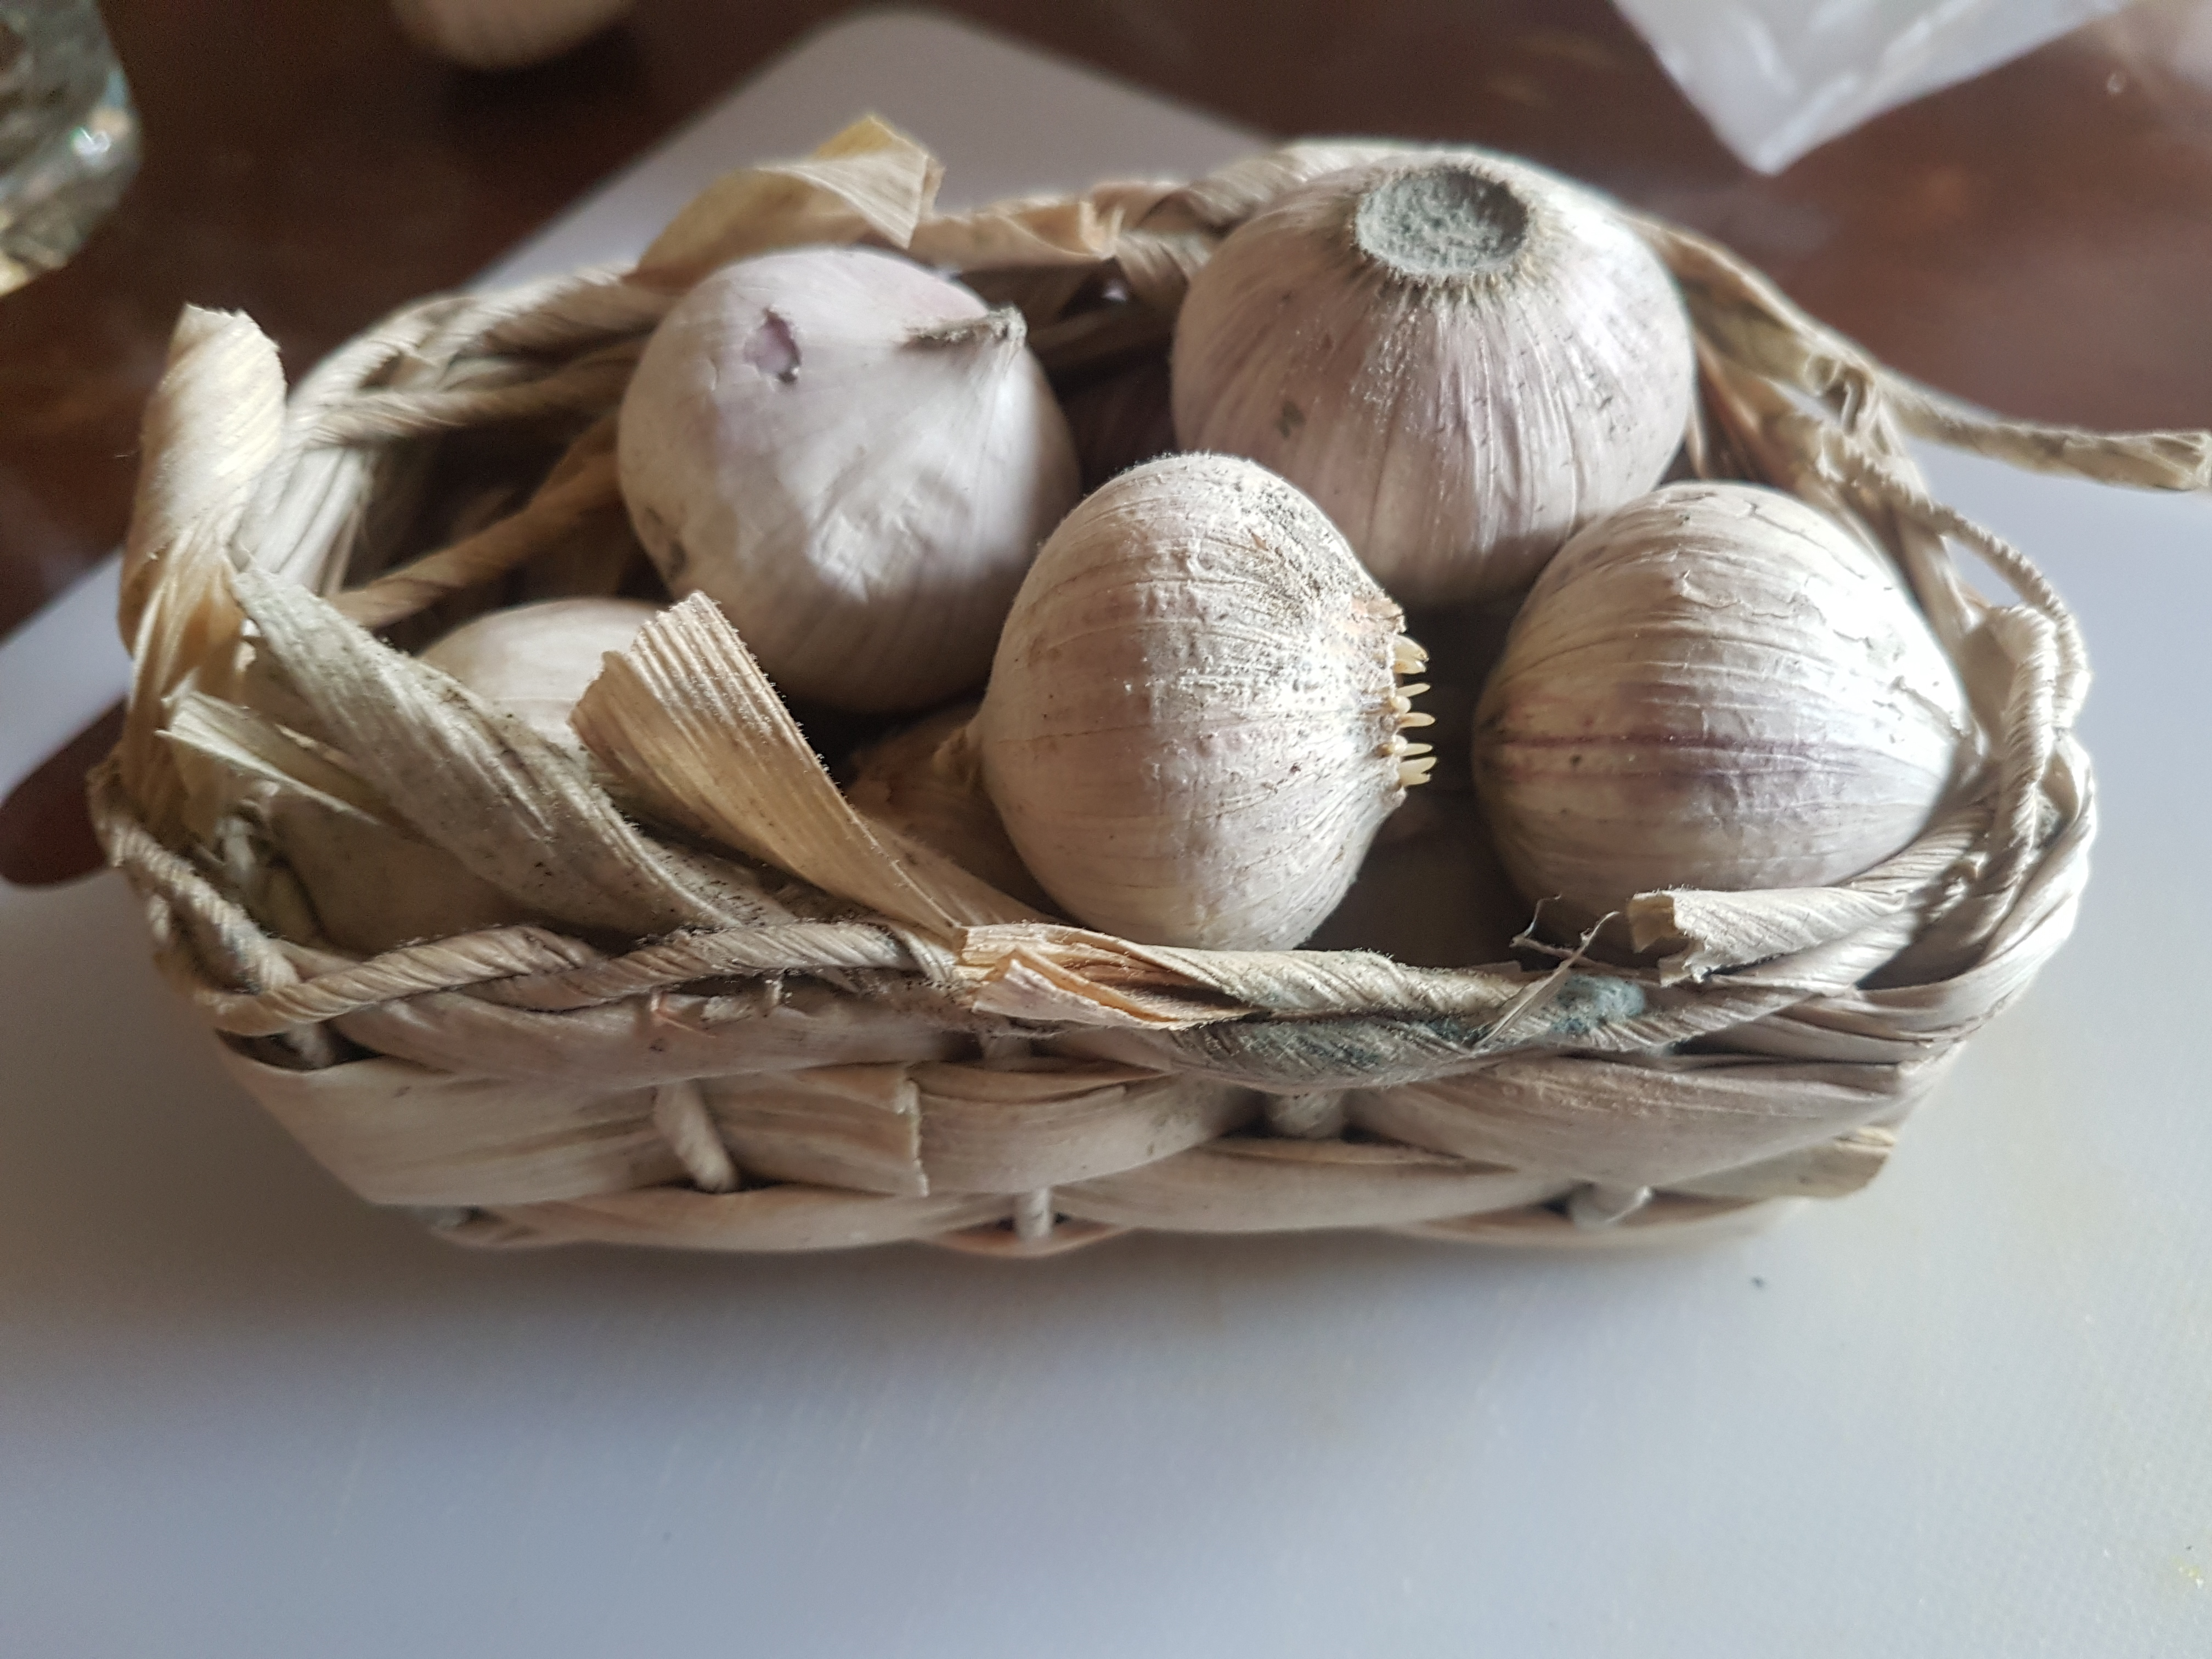Garlic cloves: (1484, 497, 2043, 945), (1186, 113, 1684, 526), (1036, 476, 1439, 957), (653, 211, 1066, 662)
